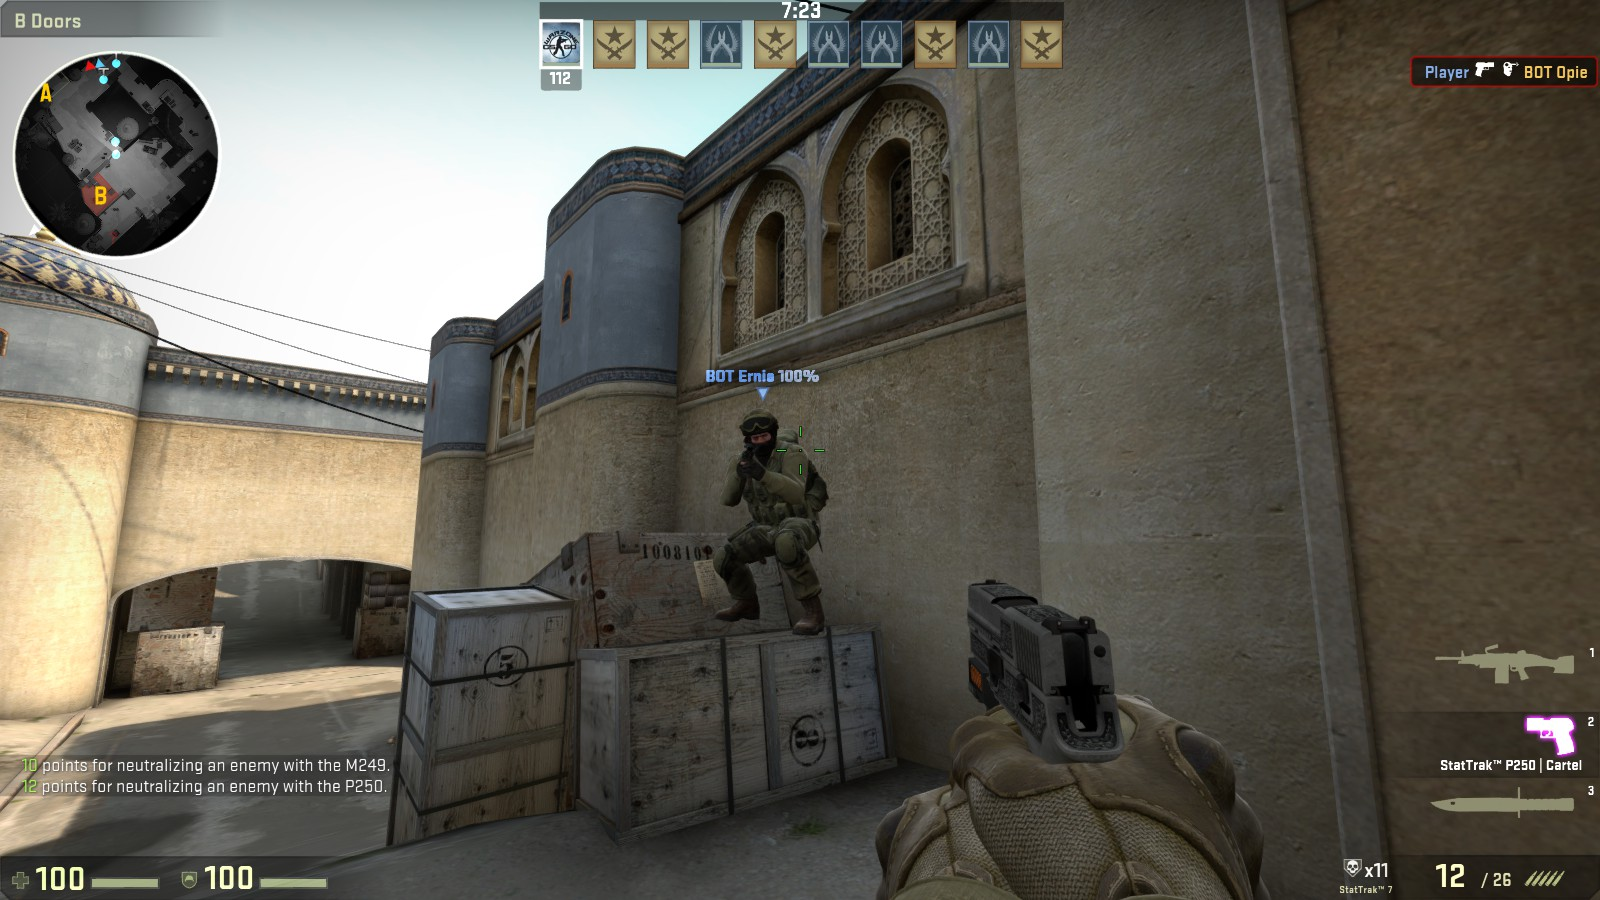c: (709, 405, 836, 638)
ch: (737, 404, 785, 460)
